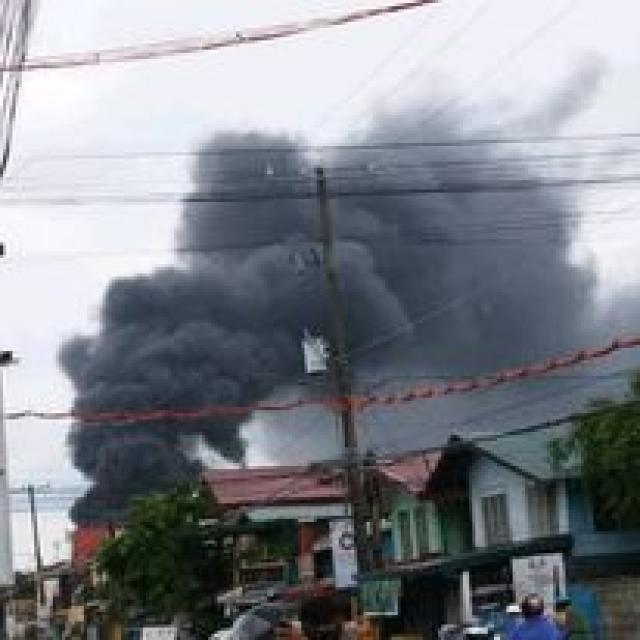Smoke: (207, 148, 630, 362), (94, 276, 304, 474)
